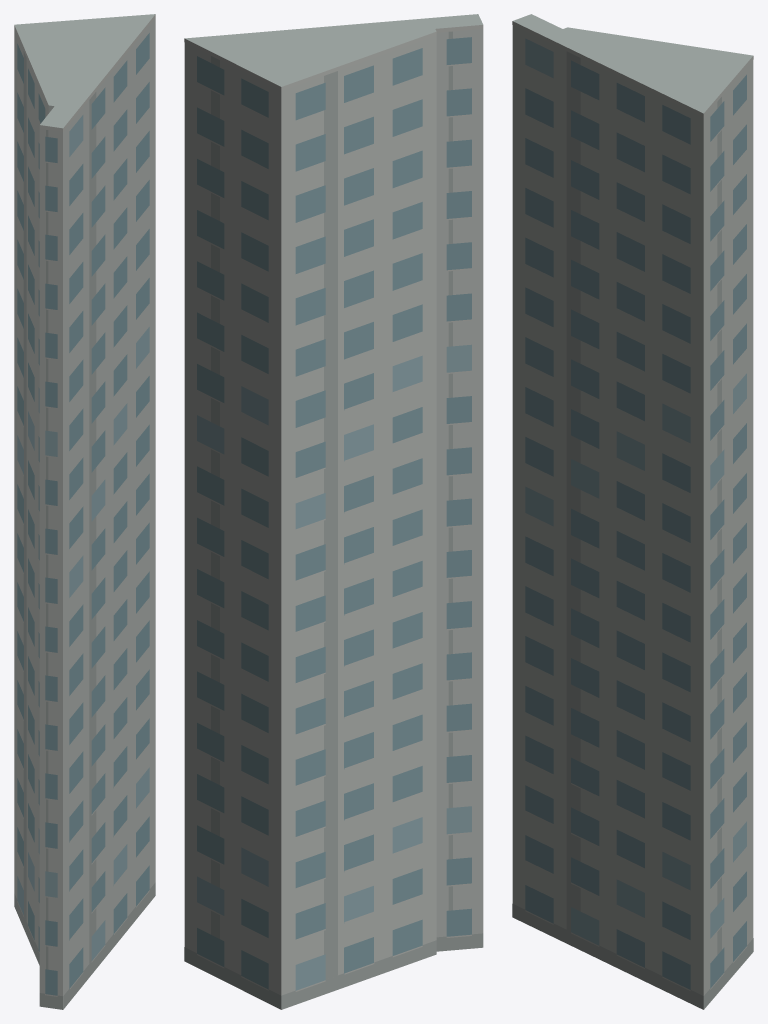
Rendered from survey-upis-32528708.glb.
3 renders of one model, left to right at view 1: azimuth 30°, elevation 25°; view 2: azimuth 150°, elevation 25°; view 3: azimuth 270°, elevation 25°, orthographic. The views are drawn at different scales.
Parts seen in each view (by area): view 1: survey-upis-32528708.tmp; view 2: survey-upis-32528708.tmp; view 3: survey-upis-32528708.tmp.
Boxes of the visible parts, box(x1,y1,x2,y2) form: survey-upis-32528708.tmp: box(14, 14, 155, 1009); survey-upis-32528708.tmp: box(184, 14, 483, 1009); survey-upis-32528708.tmp: box(512, 14, 753, 1009).
Bounding box in the file's own units: 13.09 × 54.9 × 13.38.
